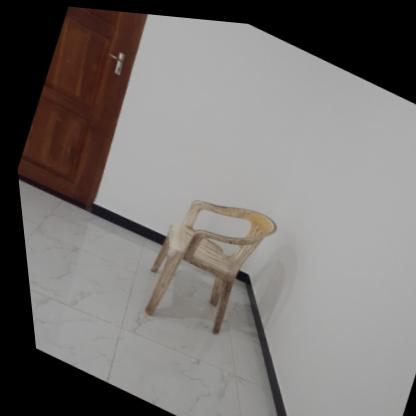Ceramic floor: (15, 179, 275, 416)
Chair: (117, 165, 285, 359)
